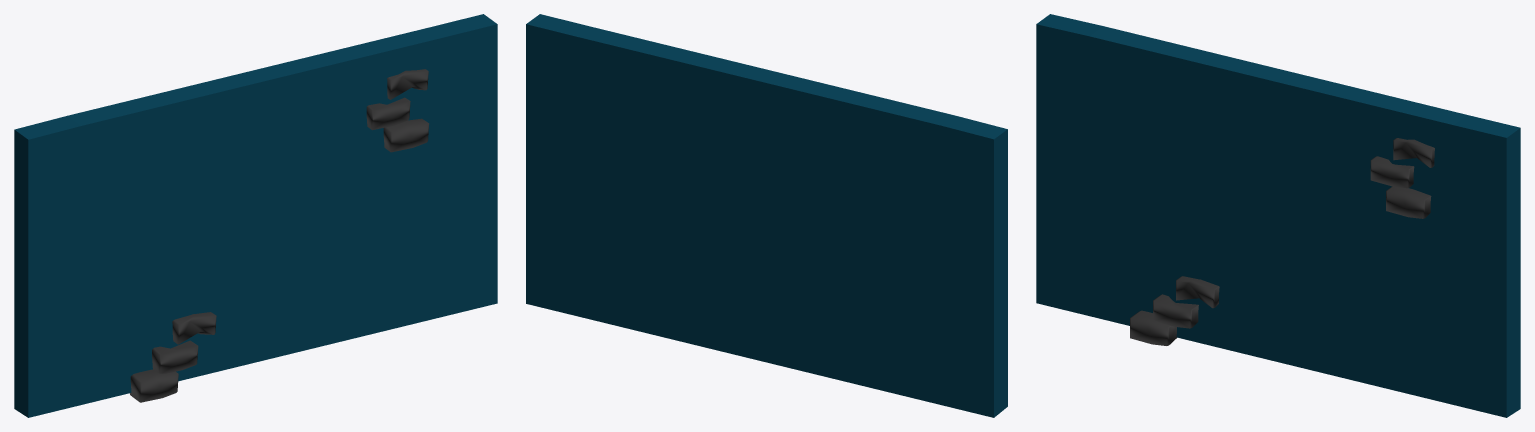
File: wall5.fbx
3 renders of one model, left to right at view 1: azimuth 30°, elevation 25°; view 2: azimuth 150°, elevation 25°; view 3: azimuth 330°, elevation 25°, orthographic.
Parts seen in each view (by area): view 1: 立方体.030; view 2: 立方体.030; view 3: 立方体.030.
Boxes of the visible parts, x1,y1,x2,y2 form: 立方体.030: [14, 14, 497, 417]; 立方体.030: [526, 14, 1007, 417]; 立方体.030: [1036, 14, 1520, 417].
Bounding box in the file's own units: 1004 × 580 × 87.93.
Materials: 2 (1 with a texture image).
